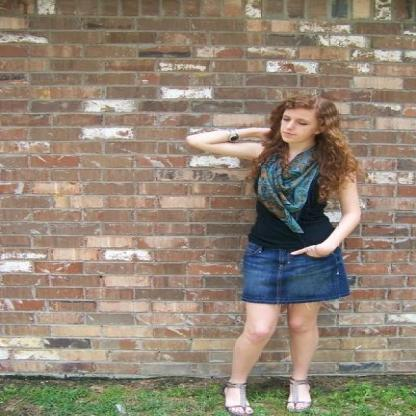shirt: (248, 180, 339, 254)
shoe: (225, 388, 310, 416)
skirt: (242, 243, 322, 304)
